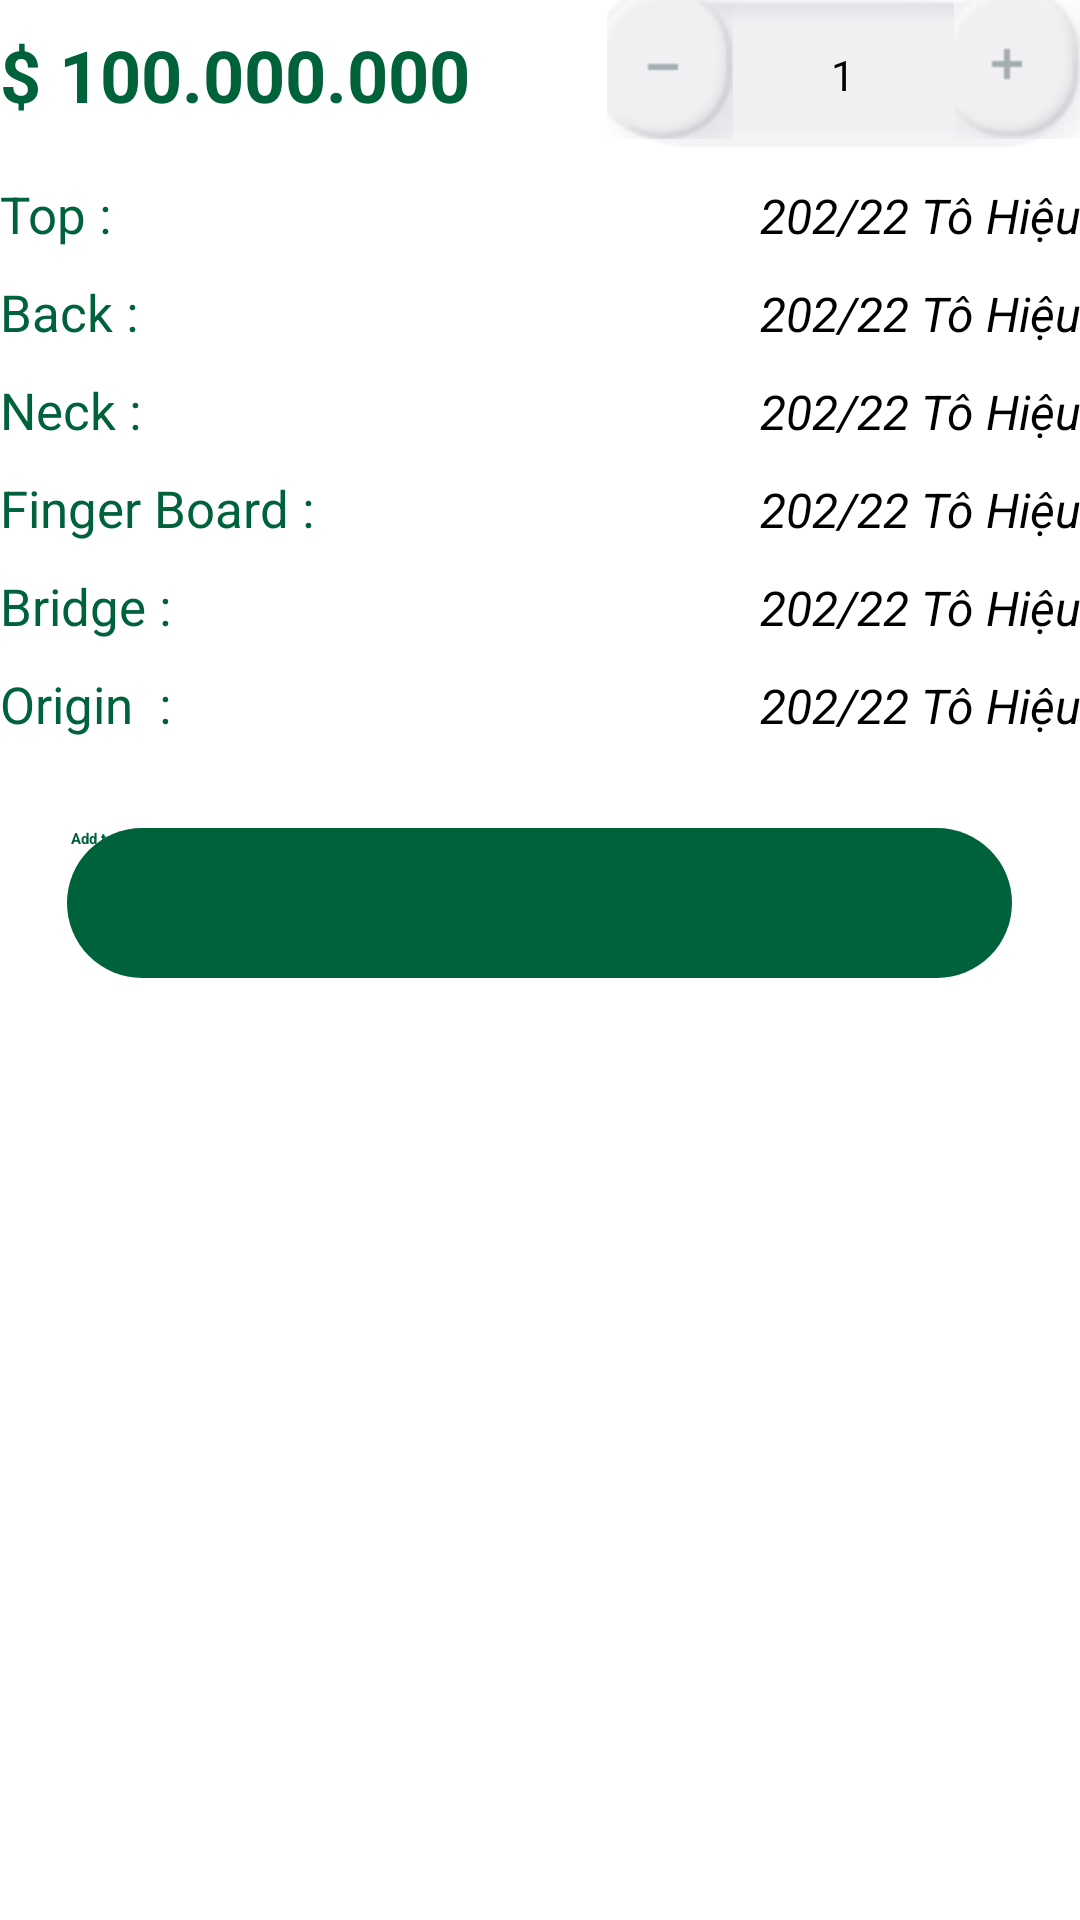

Point at icon controls on the screen. Image size 1080w x 1920h, points as [x,y].
minus: [688,83]
plus: [1031,92]
